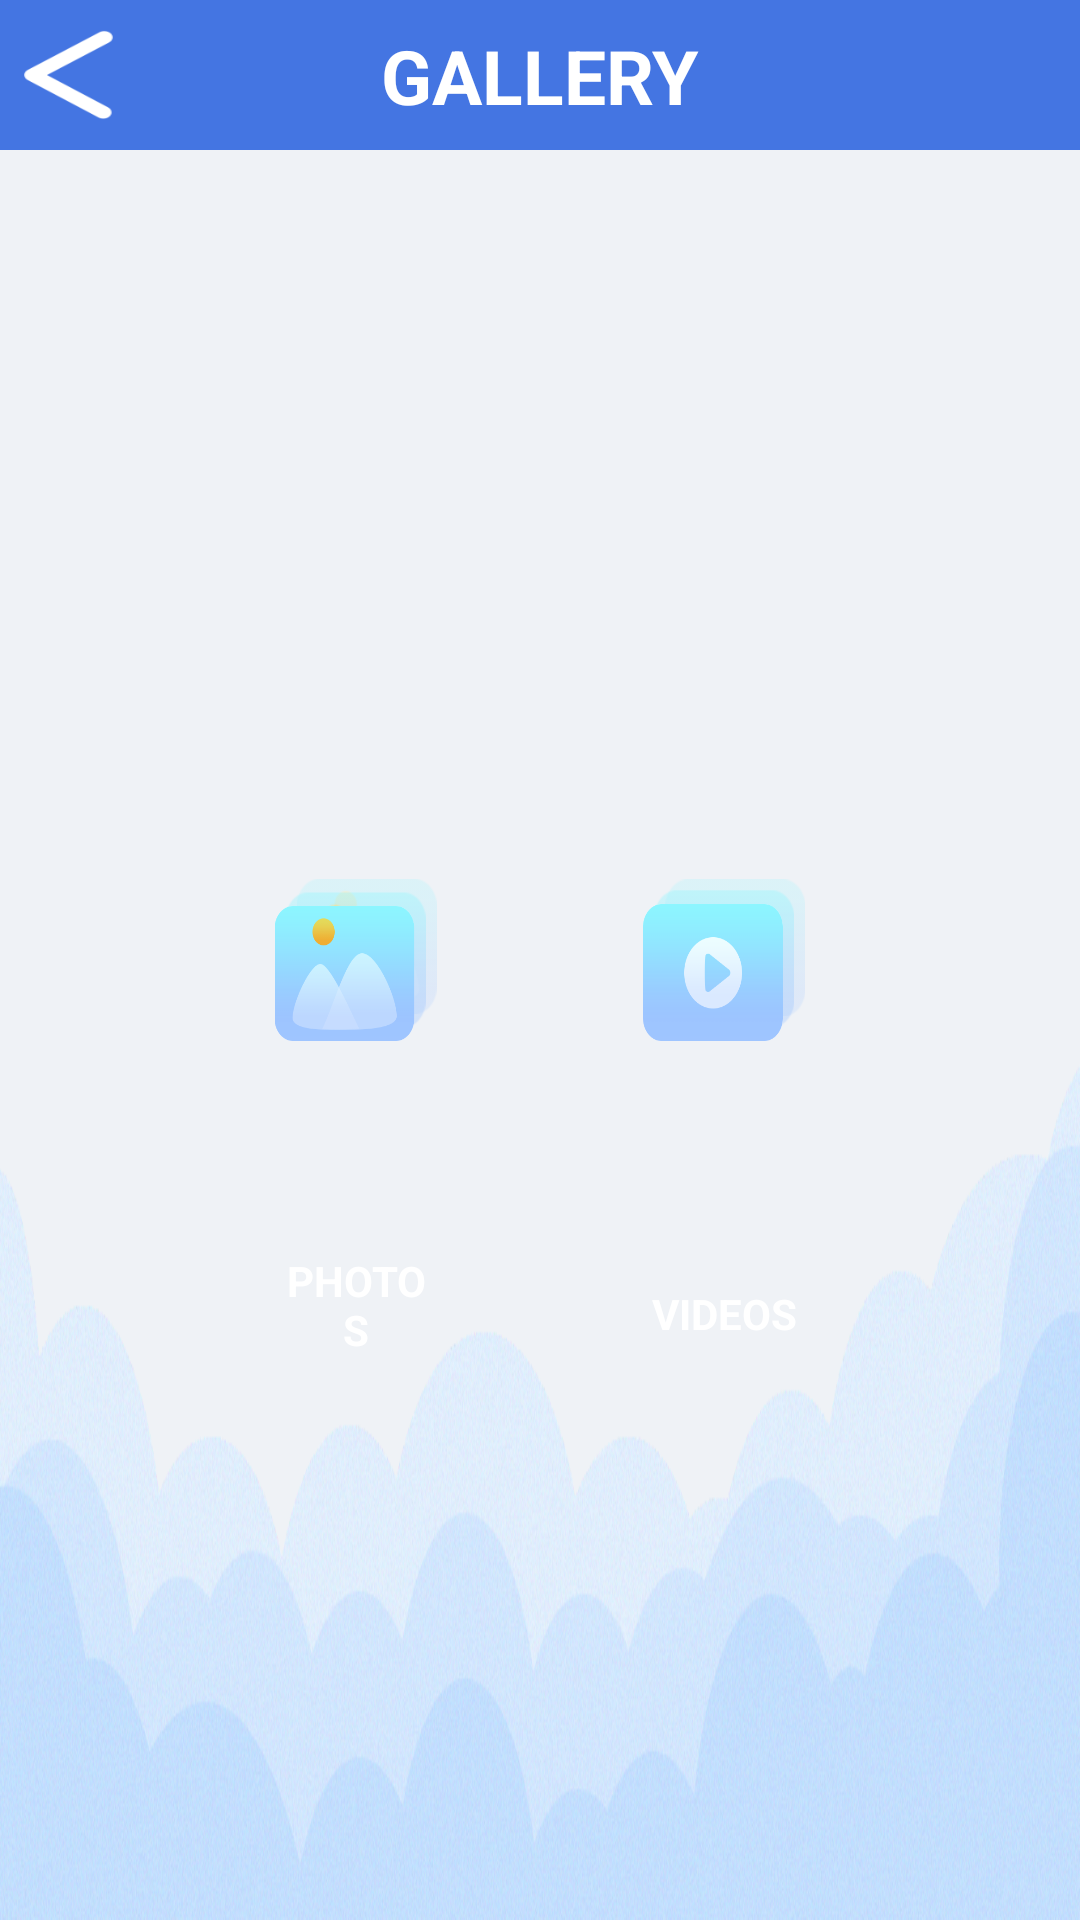

Screen size 1080 × 1920. Icon name, then its center in pixels as point (x, y):
back: point (68, 75)
brow photo: point (350, 966)
brow video: point (718, 965)
